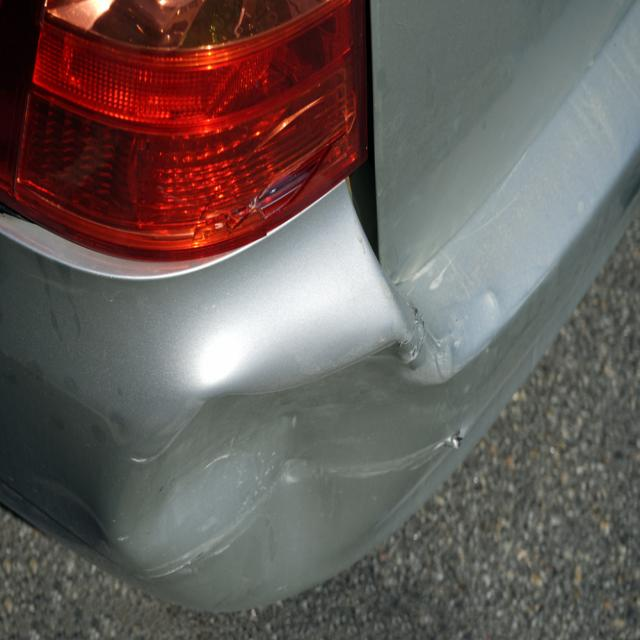dent: (132, 339, 447, 591)
lamp broken: (0, 0, 371, 265)
